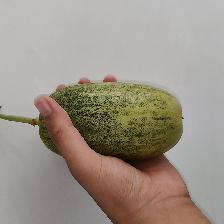gua: (55, 83, 181, 157)
